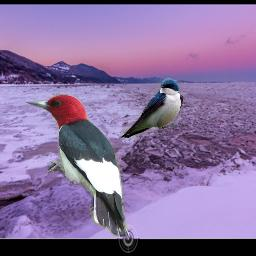Swallow: (120, 78, 183, 139)
Woodpecker: (24, 94, 133, 237)
